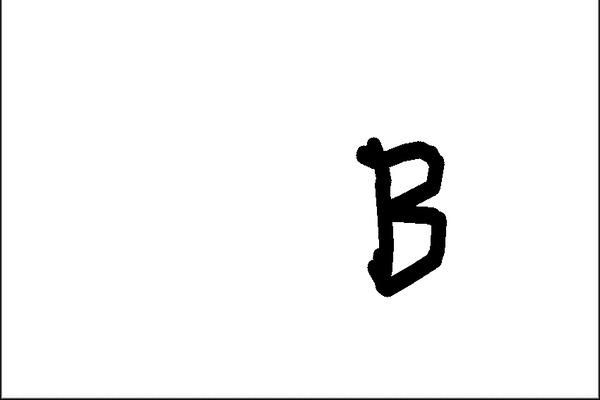B: (350, 128, 450, 298)
